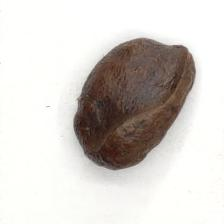NG: (85, 39, 188, 124), (74, 104, 124, 152)
